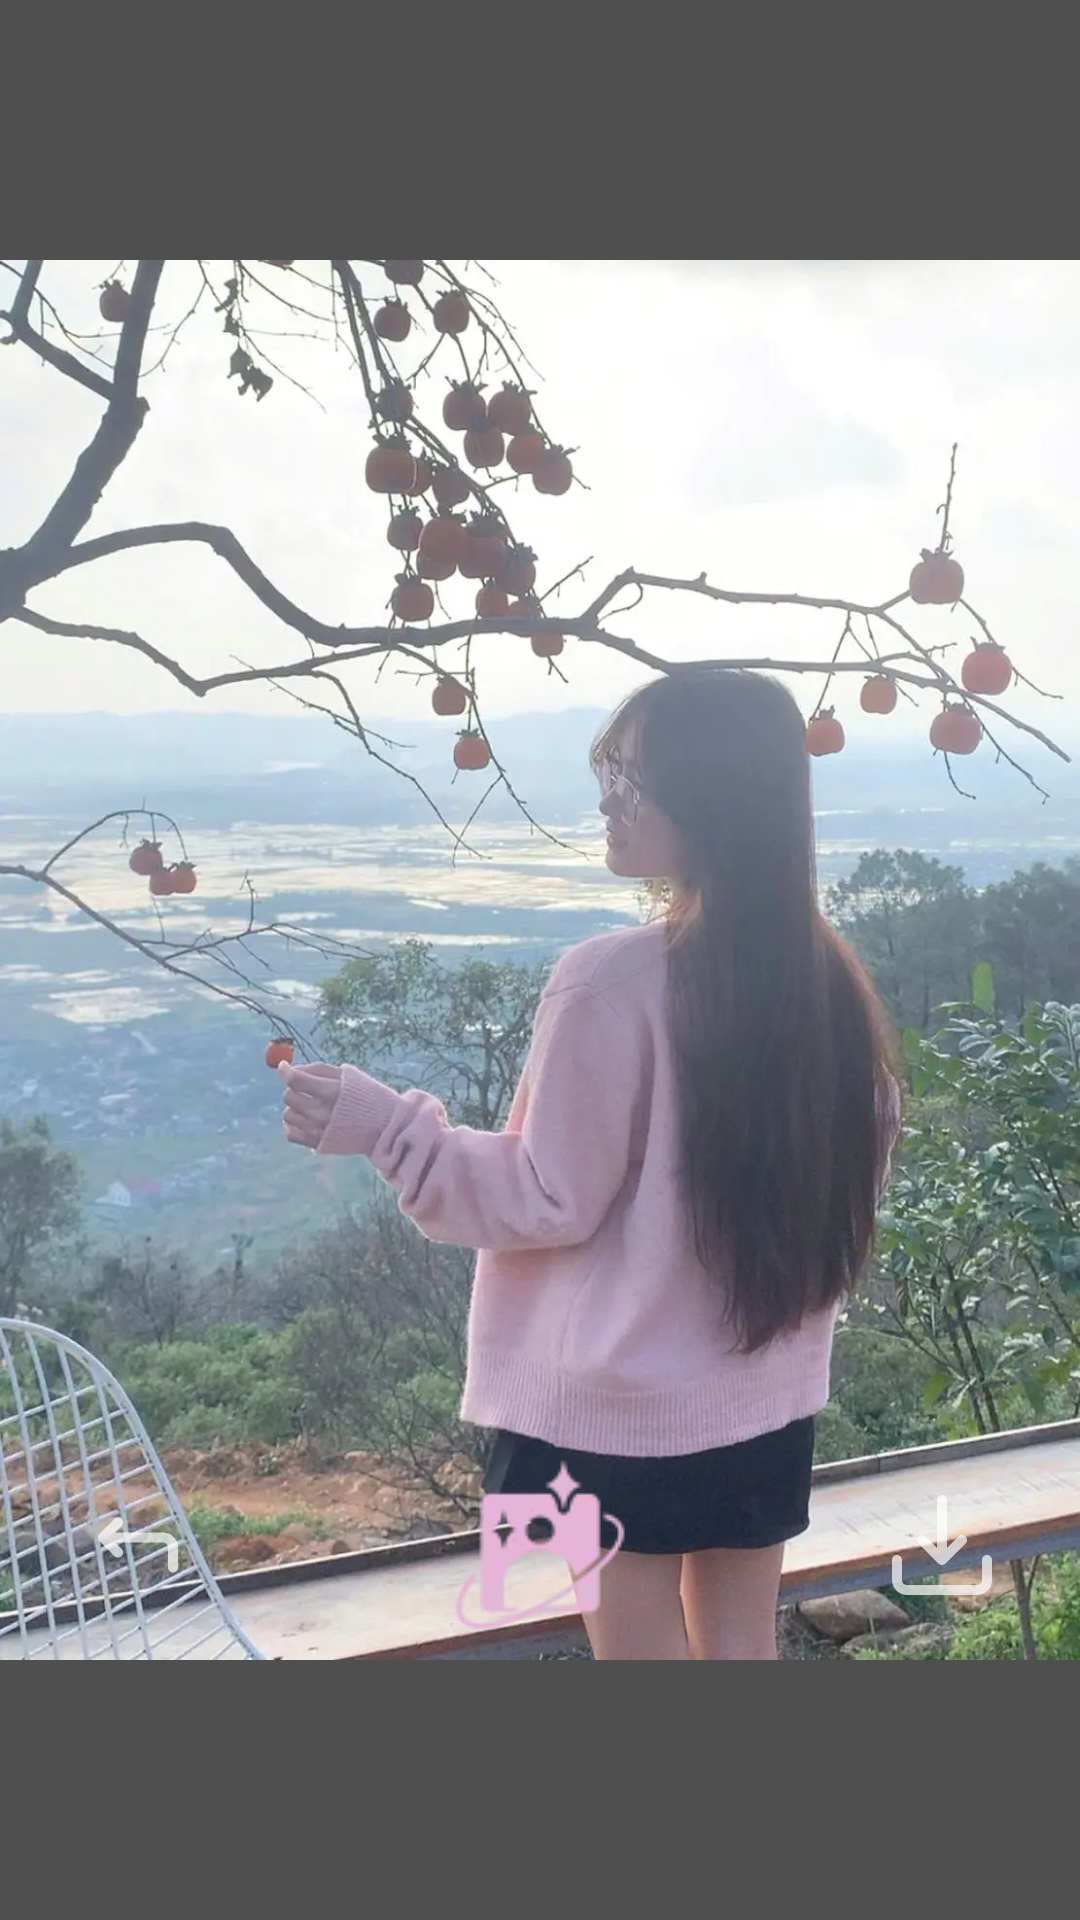

Point at icon controls on the screen. Image size 1080x1920, points as (x,y).
download: (942,1545)
photo editor: (540,1545)
